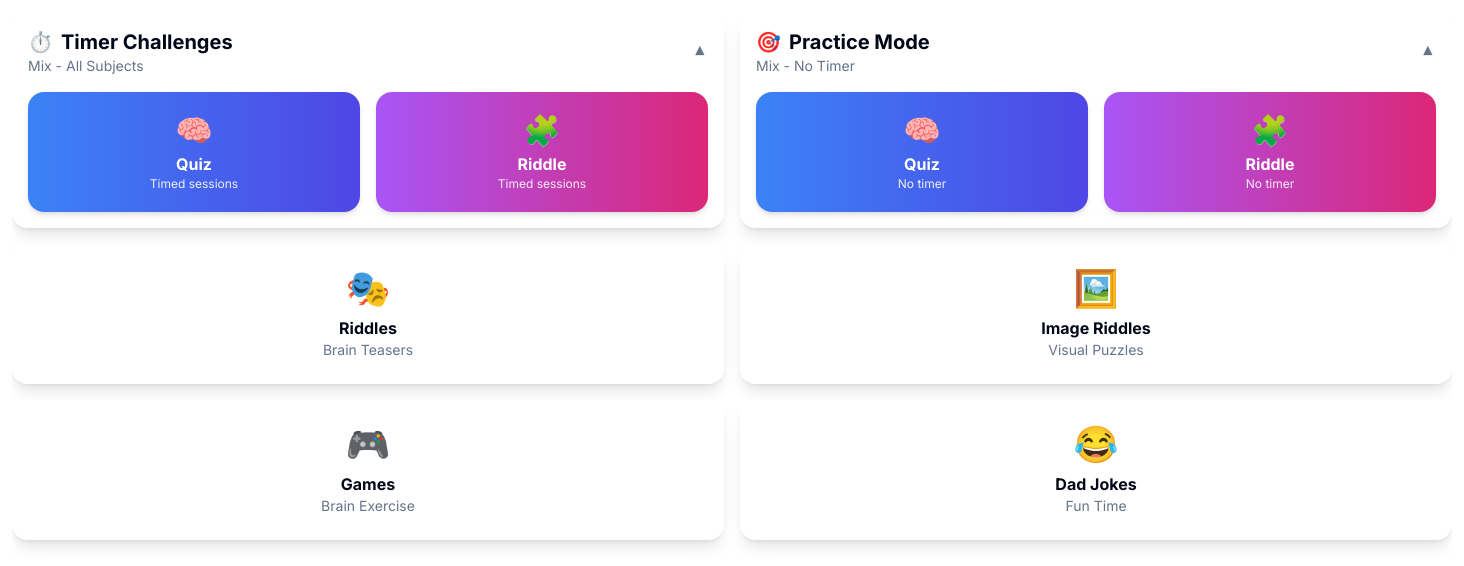
Test: ModeCards — accordion behavior › collapses the clicked card when its header is clicked again
This screenshot has width=1464, height=566.
Click the button with aria-label "Timer Challenges section" at (147, 42), box x1=12 y1=12 x2=724 y2=92
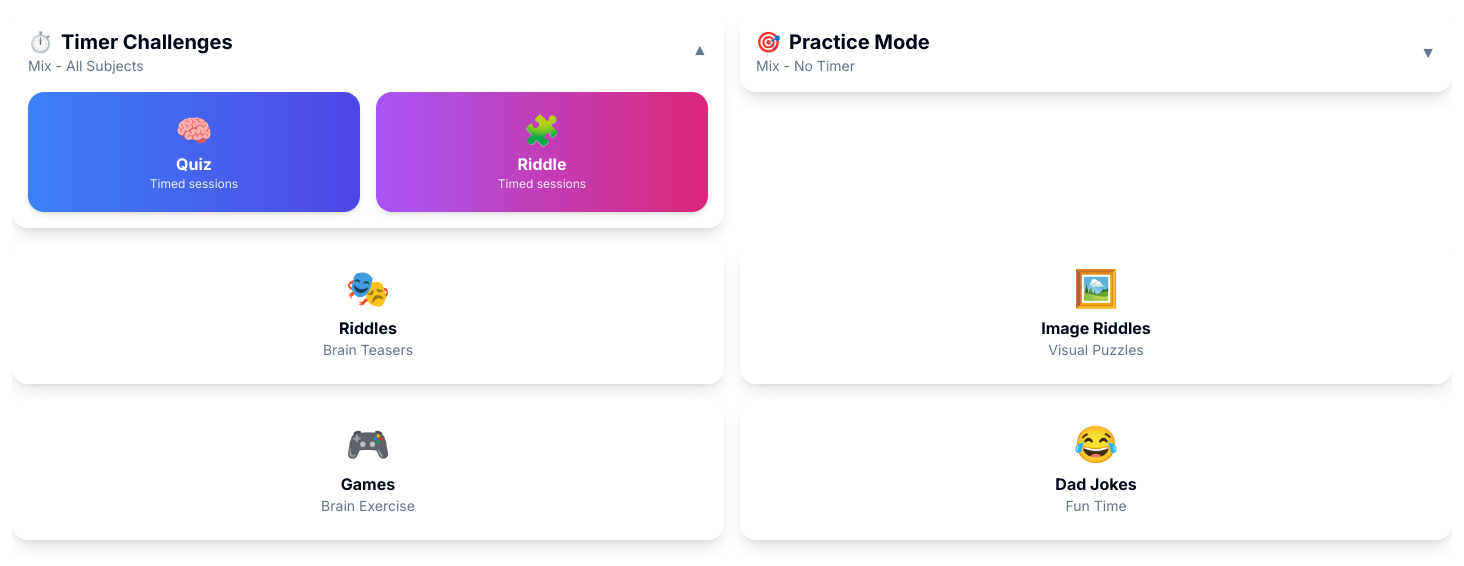
Click the button with aria-label "Timer Challenges section" at (147, 42), box x1=12 y1=12 x2=724 y2=92
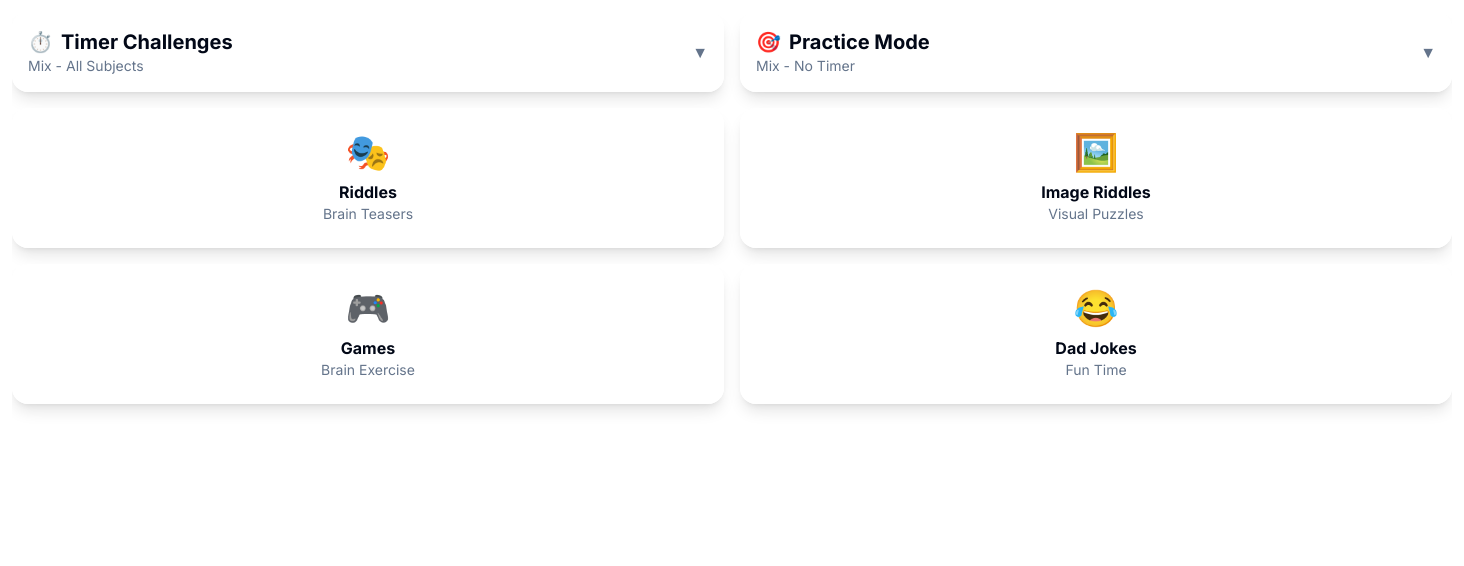
Now the button with aria-label "Practice Mode section" is collapsed, box x1=740 y1=12 x2=1452 y2=92
Now the button with aria-label "Timer Challenges section" is collapsed, box x1=12 y1=12 x2=724 y2=92
